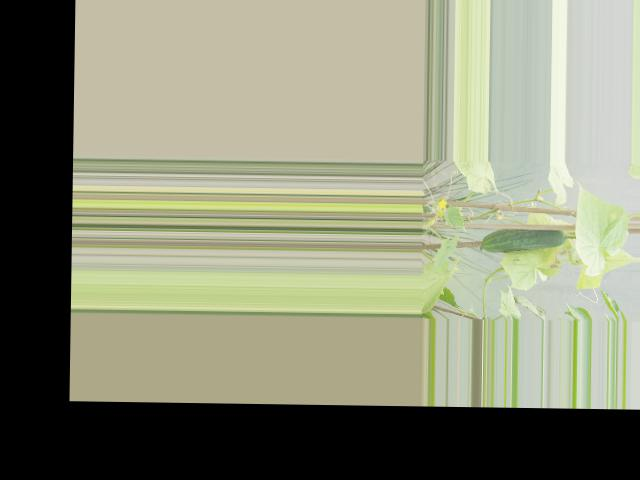cucumber: (480, 228, 566, 254)
